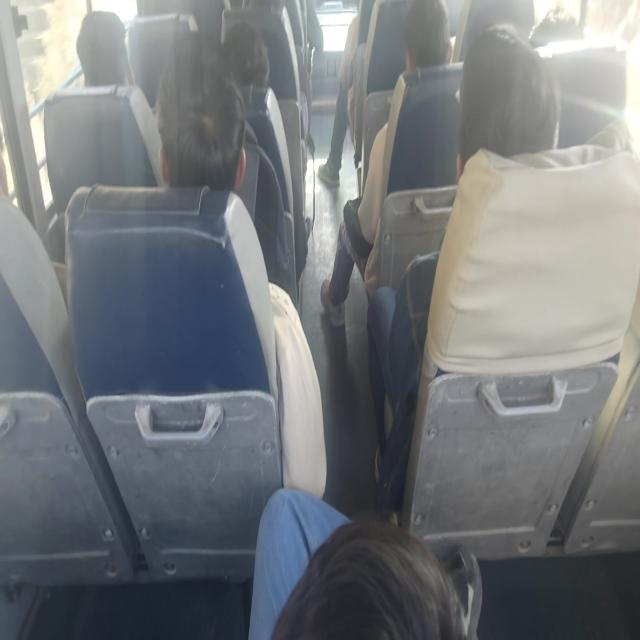person: (366, 23, 561, 520), (154, 32, 328, 498), (320, 0, 454, 327), (248, 486, 482, 638), (154, 33, 247, 191), (317, 0, 363, 186), (75, 9, 135, 87)
